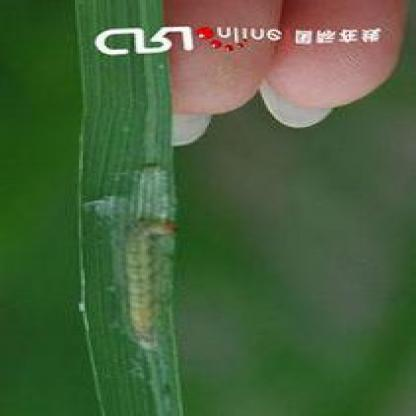leaf-folder: (87, 174, 214, 386)
